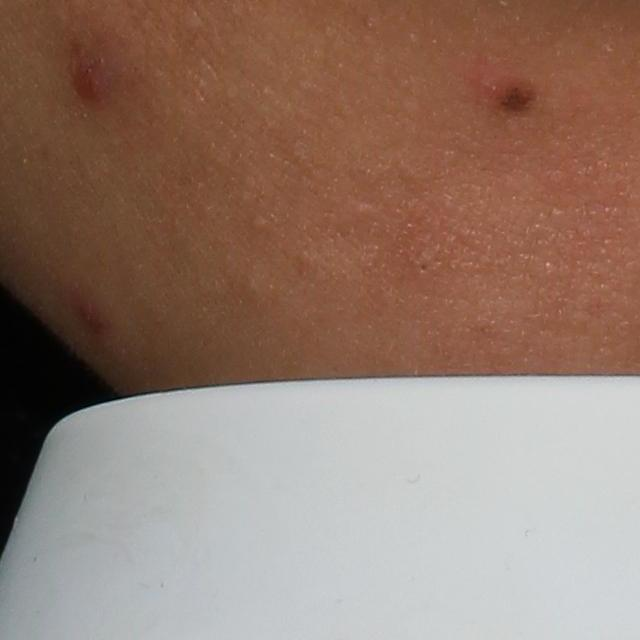comedo: (249, 212, 269, 234)
nevus: (496, 85, 534, 117)
papule: (67, 287, 109, 336), (67, 59, 106, 107)
